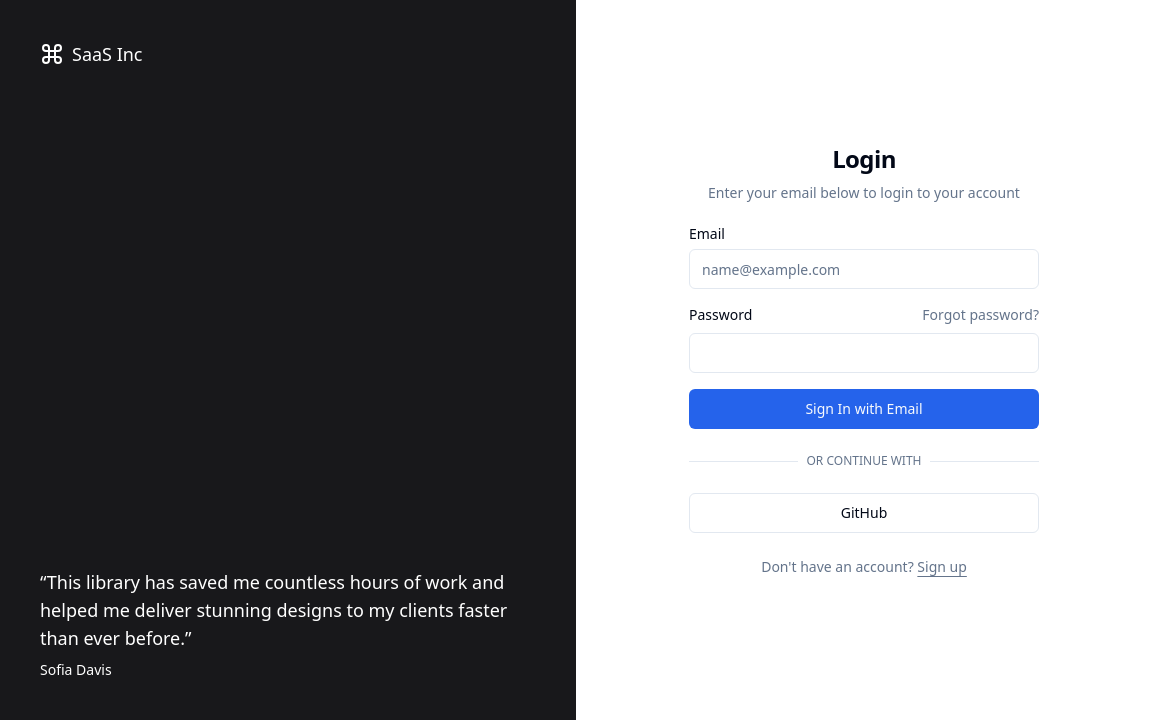
Test case: Login Page › clears error when resubmitting
# First submission - error
Type "test@example.com" into the field labelled "Email" at (864, 269), box [689, 249, 1039, 289]
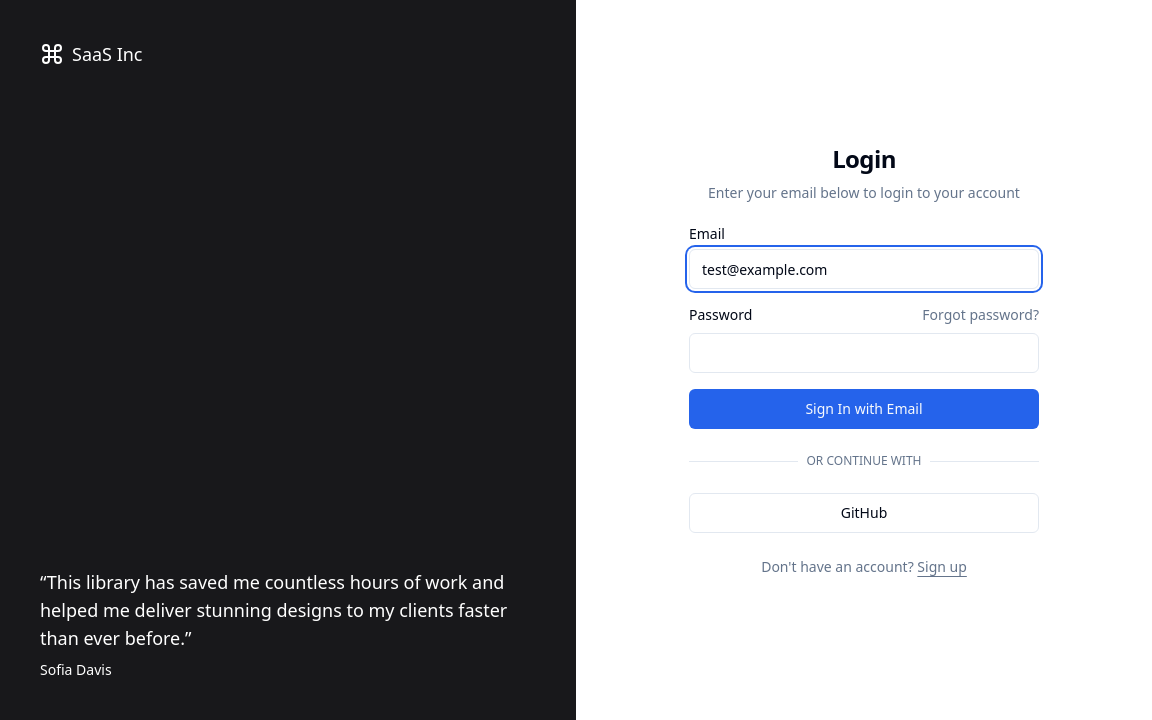
Type "wrongpassword" into the password field labelled "Password" at (864, 353), box [689, 333, 1039, 373]
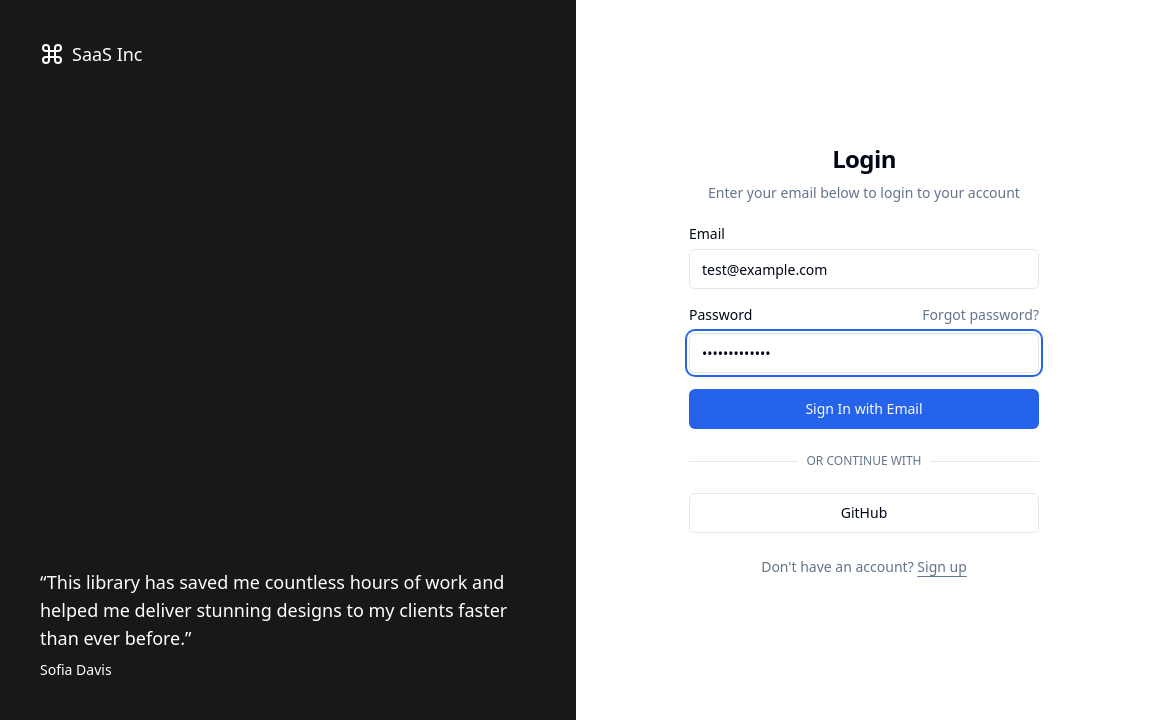
Click the button "Sign In with Email" at (864, 409), box [689, 389, 1039, 429]
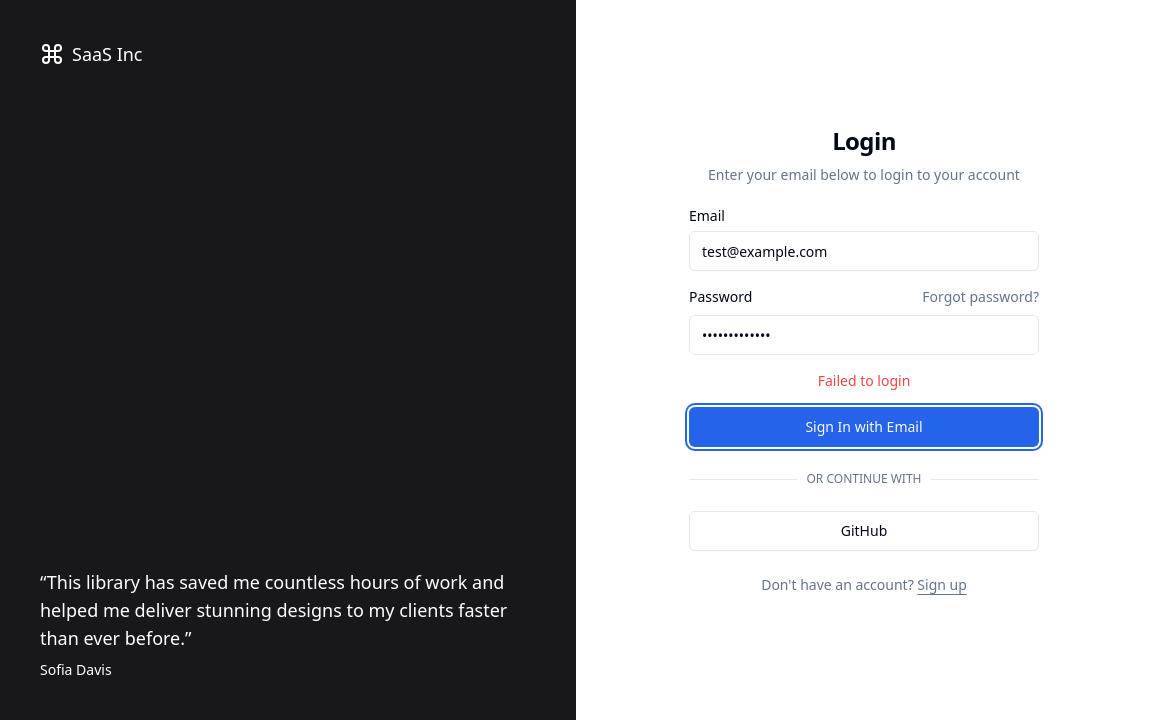
Expected: the text "Failed to login" is shown, [818, 371, 910, 390]
Click the button "Sign In with Email" at (864, 427), box [689, 407, 1039, 447]
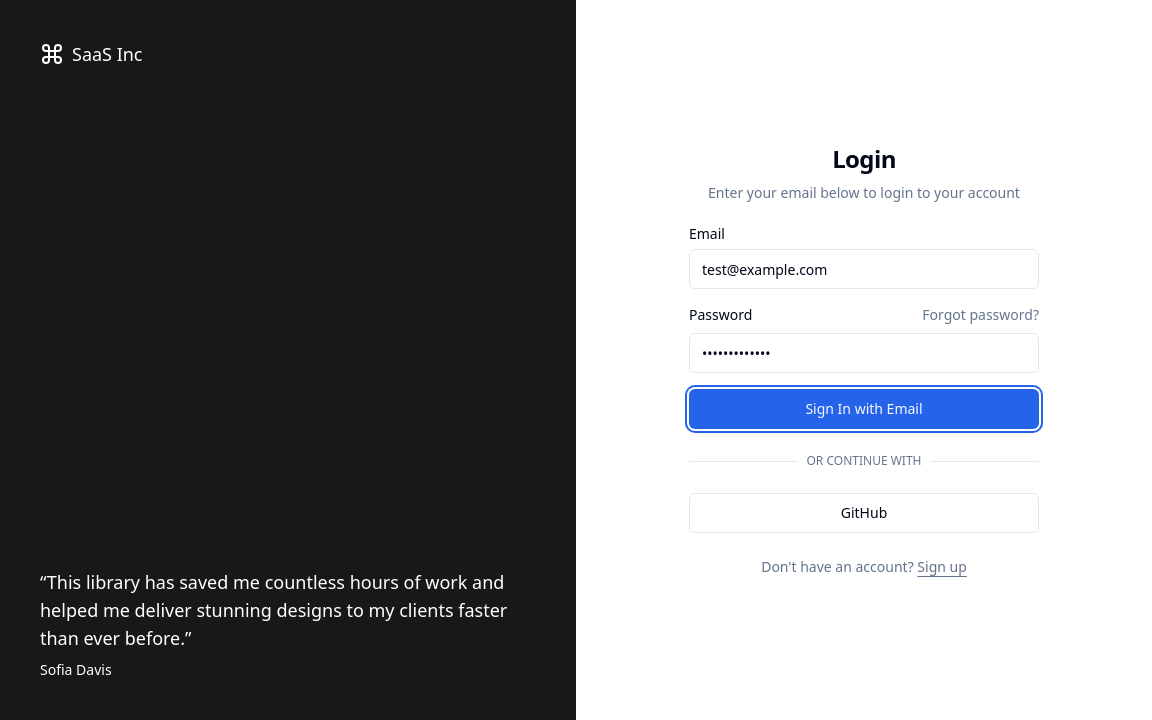
Expected: the text "Failed to login" is gone
